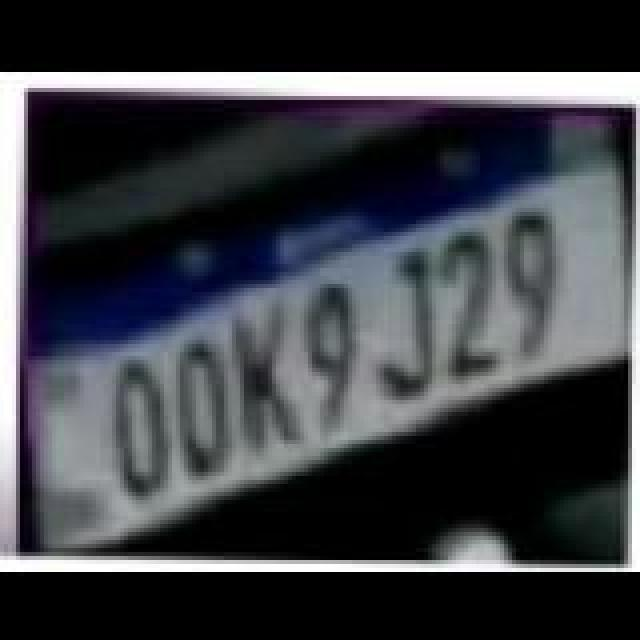2: (432, 226, 512, 382)
9: (290, 274, 374, 430), (500, 204, 572, 356)
J: (366, 246, 450, 402)
K: (224, 298, 312, 454)
O: (162, 334, 246, 482), (102, 356, 186, 500)
